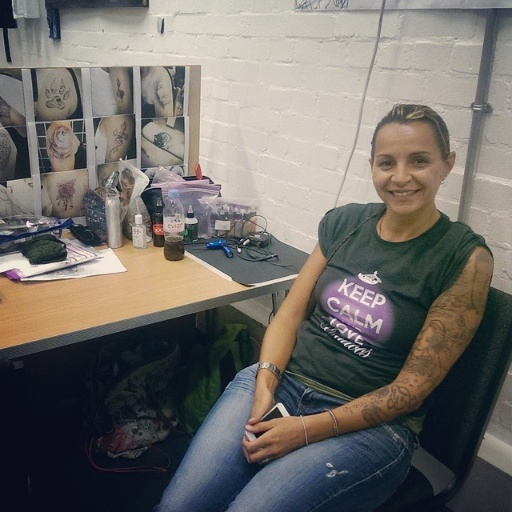hand: (252, 401, 313, 472), (240, 393, 273, 464)
